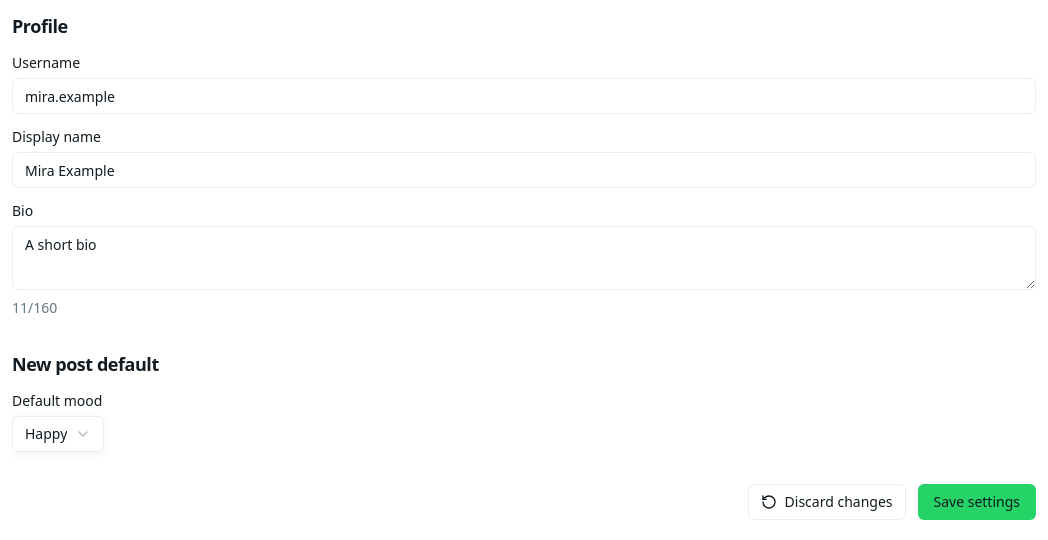
Scenario: ProfileSettingsForm › discards edits and restores the saved values
The width and height of the screenshot is (1048, 540).
Replace the text in the field labelled "Display name" with "A different name" at (524, 170), box [12, 152, 1036, 188]
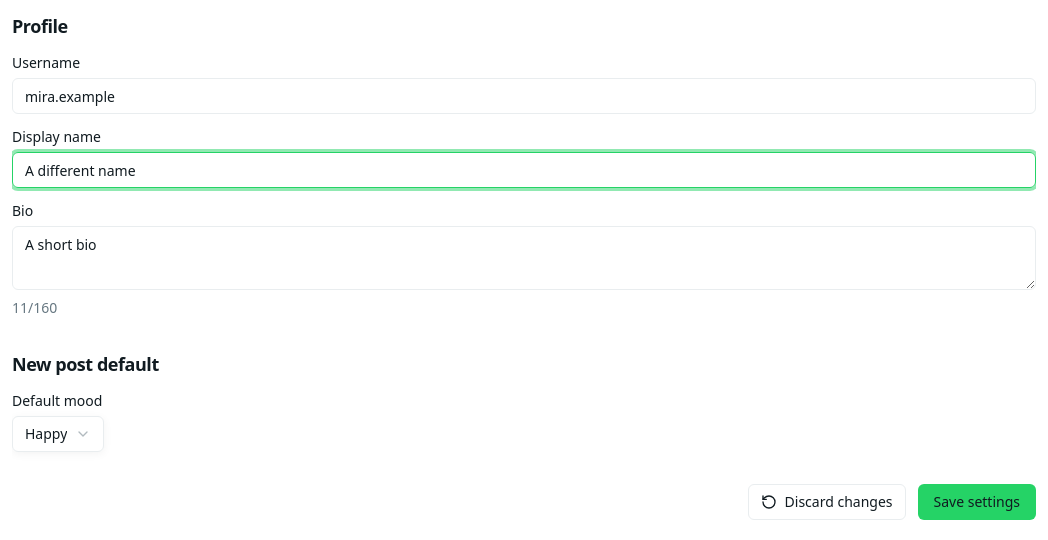
Click the button "Discard changes" at (826, 502), box [748, 484, 906, 520]
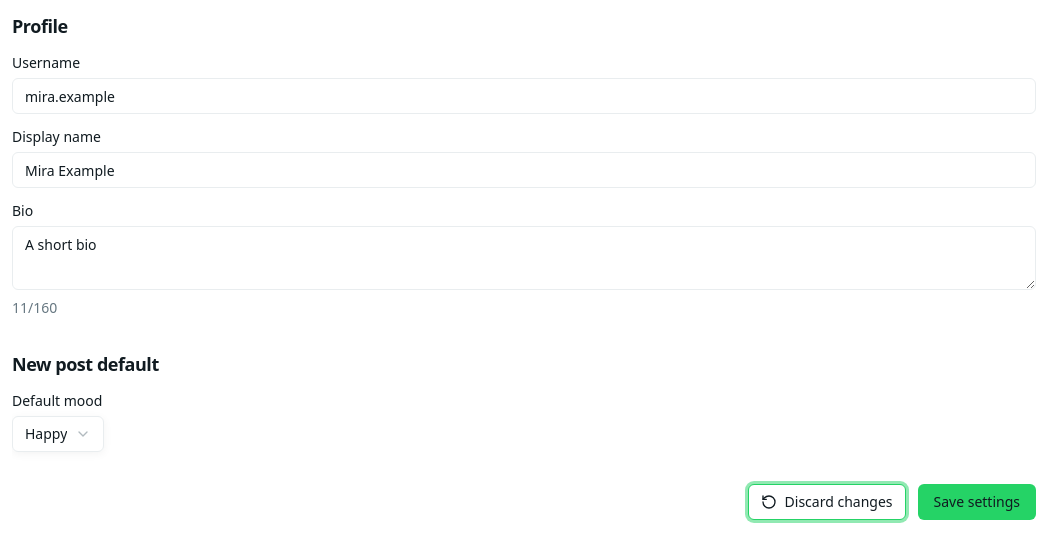
Check: the field labelled "Display name" holds "Mira Example", box [12, 152, 1036, 188]
